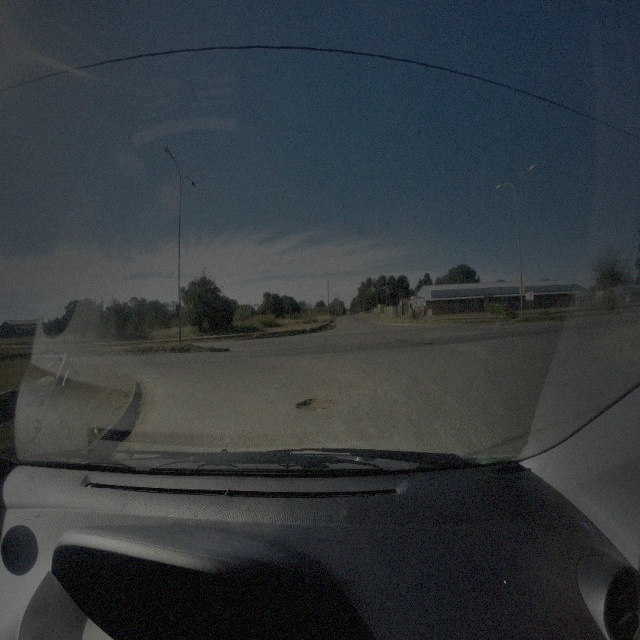pothole: (294, 391, 332, 414)
